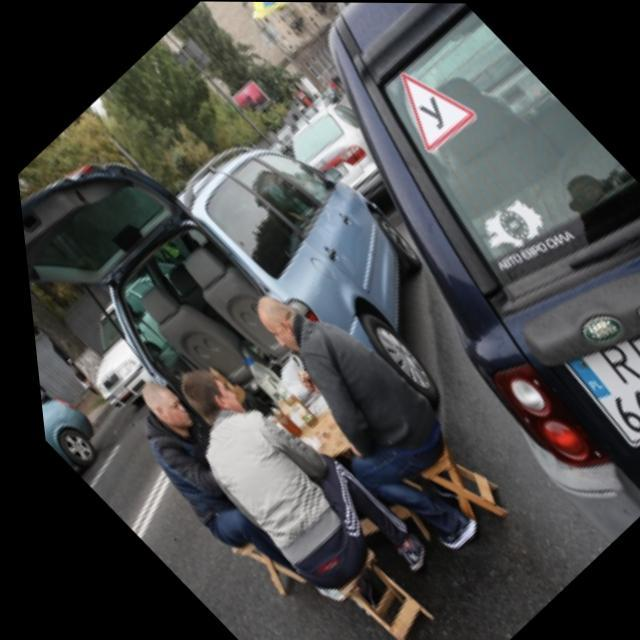license_plate: (543, 282, 640, 475)
